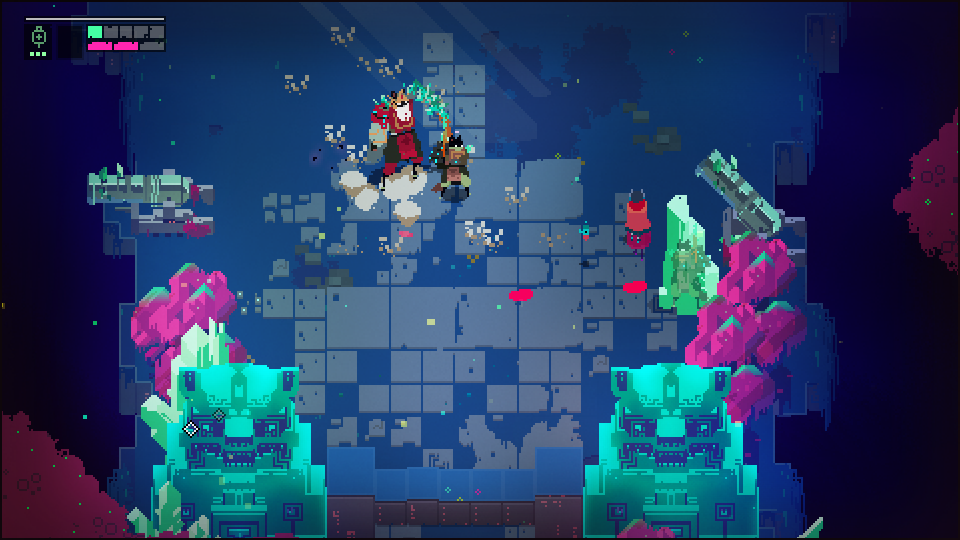hanged_man: (369, 85, 452, 179)
player: (625, 190, 649, 240)
